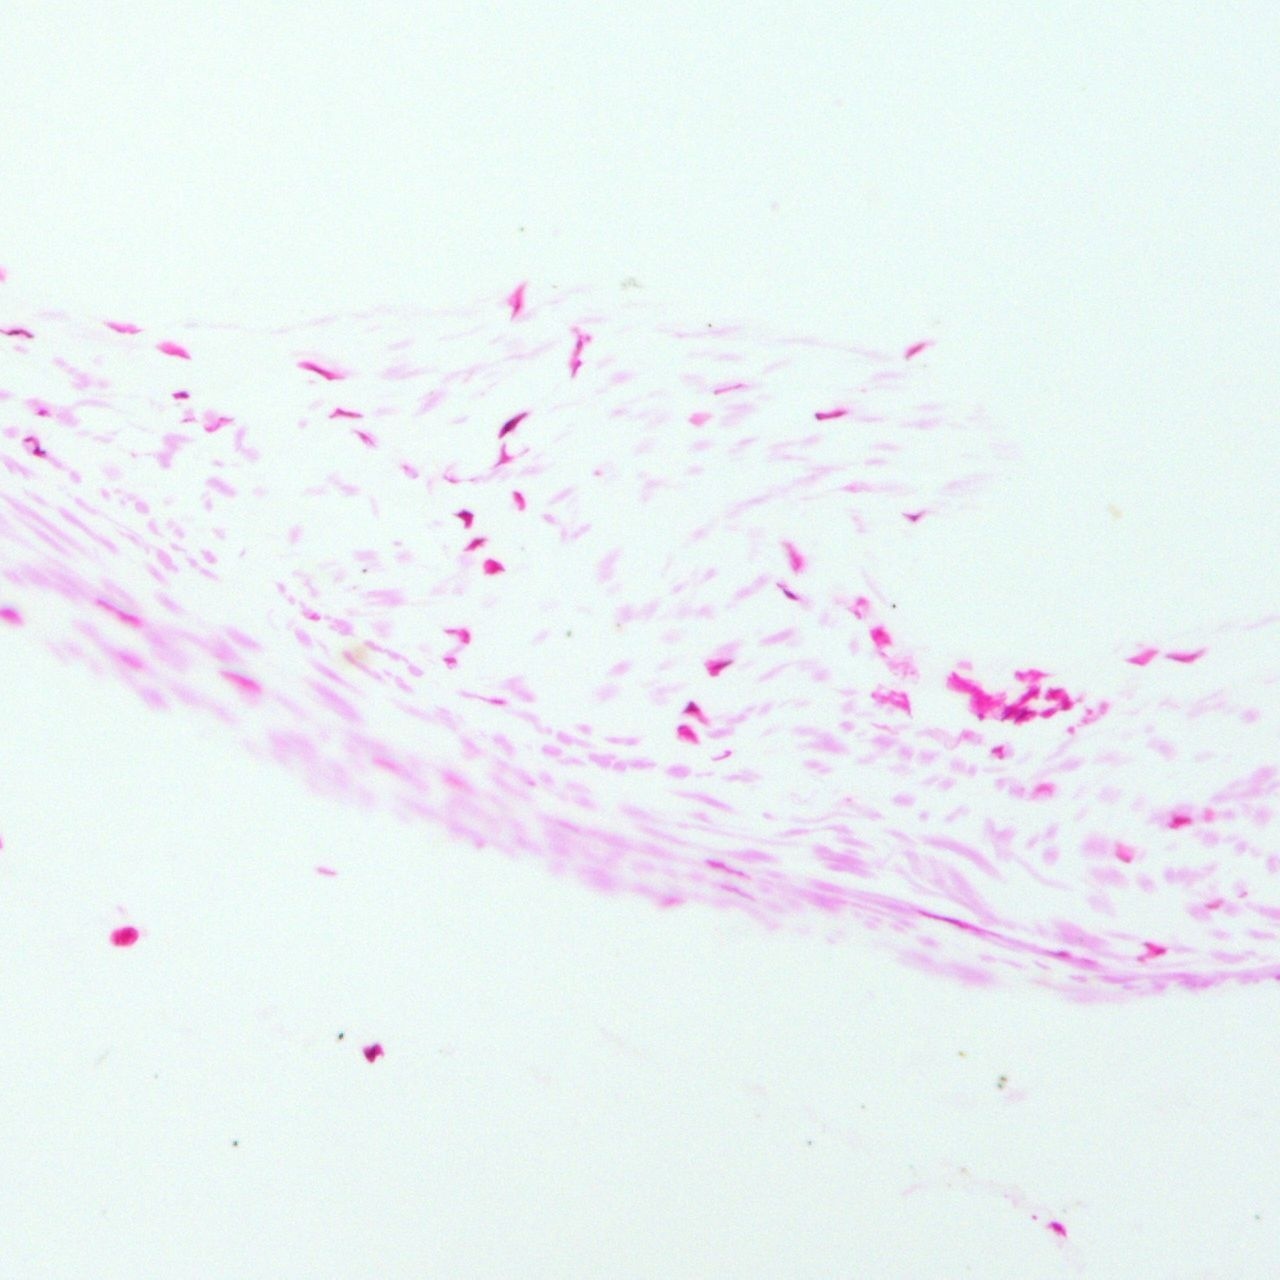dust: (806, 1139, 815, 1149), (518, 224, 526, 232), (706, 321, 714, 329), (998, 1074, 1007, 1081), (338, 1033, 343, 1042), (232, 1141, 238, 1149), (956, 1049, 965, 1055), (996, 1082, 1003, 1088), (615, 622, 622, 628), (891, 602, 896, 610), (566, 629, 571, 636), (361, 568, 368, 572)
nucleus-FG: (915, 908, 988, 934), (93, 595, 145, 629), (1001, 685, 1040, 722), (495, 408, 529, 438), (220, 667, 260, 693), (704, 858, 751, 879), (299, 360, 338, 381), (157, 343, 192, 361), (1167, 651, 1206, 665), (510, 285, 525, 320), (713, 381, 747, 395), (462, 533, 486, 552), (1013, 704, 1035, 724), (105, 324, 143, 335), (904, 340, 926, 359), (815, 408, 845, 421), (6, 326, 35, 338), (1143, 942, 1166, 956), (778, 585, 798, 601), (709, 658, 734, 670), (787, 549, 802, 568), (329, 409, 361, 418), (512, 489, 525, 509), (365, 1044, 380, 1061), (568, 359, 581, 377), (1171, 816, 1191, 826), (1046, 687, 1063, 699), (869, 628, 886, 640), (459, 627, 471, 644), (678, 726, 694, 737), (903, 512, 922, 522), (573, 338, 584, 355), (1128, 658, 1146, 667), (1206, 900, 1223, 911), (491, 561, 504, 574), (1042, 706, 1055, 719), (32, 445, 47, 456), (457, 510, 472, 520), (685, 701, 699, 712), (1115, 852, 1130, 862), (1051, 949, 1068, 958), (171, 392, 190, 399), (1062, 699, 1073, 710), (358, 433, 369, 442), (34, 408, 47, 416), (990, 745, 1005, 753), (445, 658, 458, 665), (309, 612, 319, 619)
